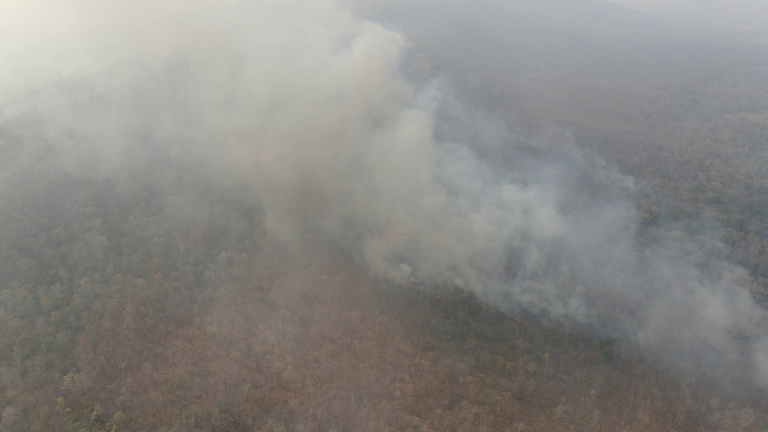fire: (389, 278, 443, 302), (480, 302, 536, 325), (376, 229, 420, 246)
smoke: (77, 1, 500, 297), (503, 163, 768, 378)
